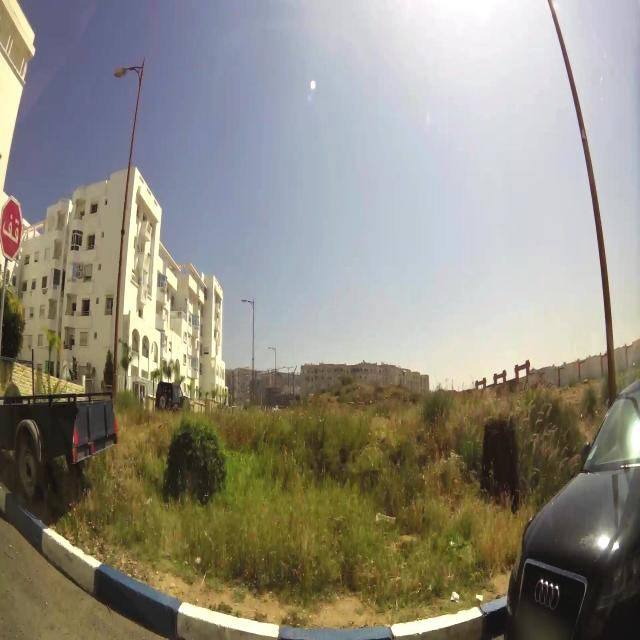car: (490, 363, 640, 638), (155, 380, 185, 412)
